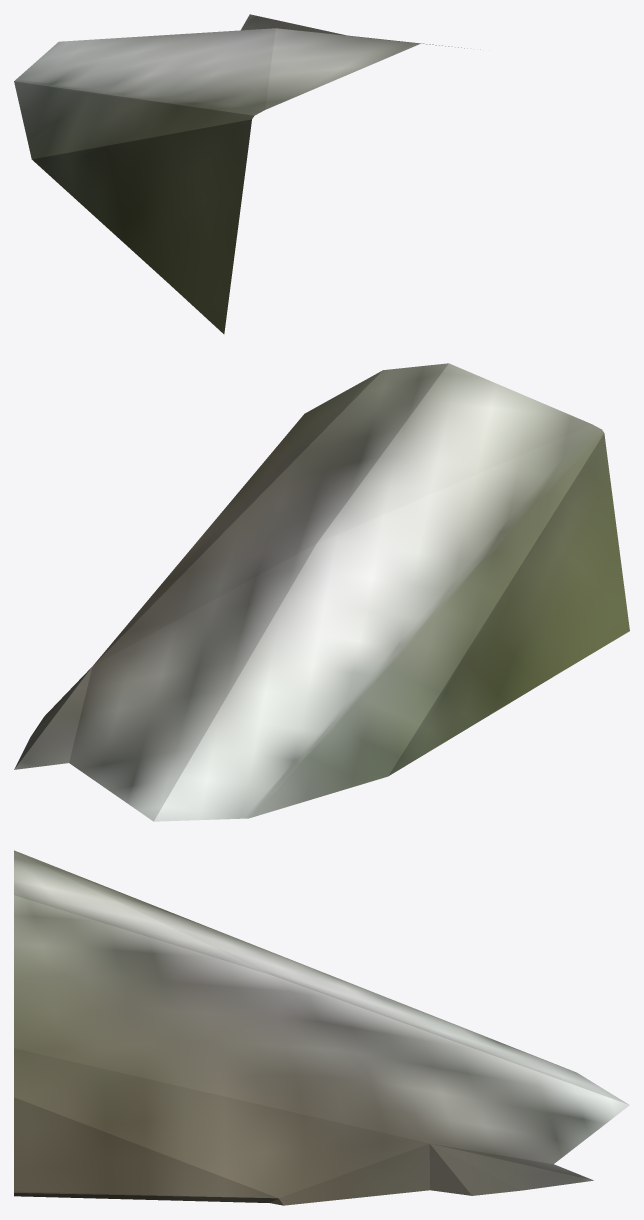
3 views of the same model, one above another, from view 1: azimuth 30°, elevation 25°; view 2: azimuth 150°, elevation 25°; view 3: azimuth 270°, elevation 25° (orthographic). The views are drawn at different scales.
Size of the model in its own units: 0.2508 by 0.1436 by 0.3658.
Materials: 1 (1 with a texture image).
